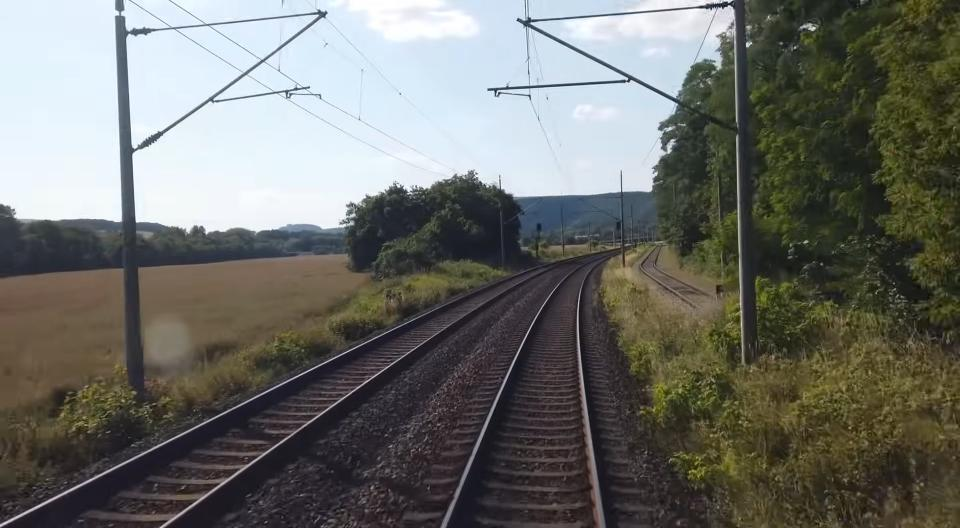Plant: (668, 447, 735, 511), (639, 381, 692, 447)
